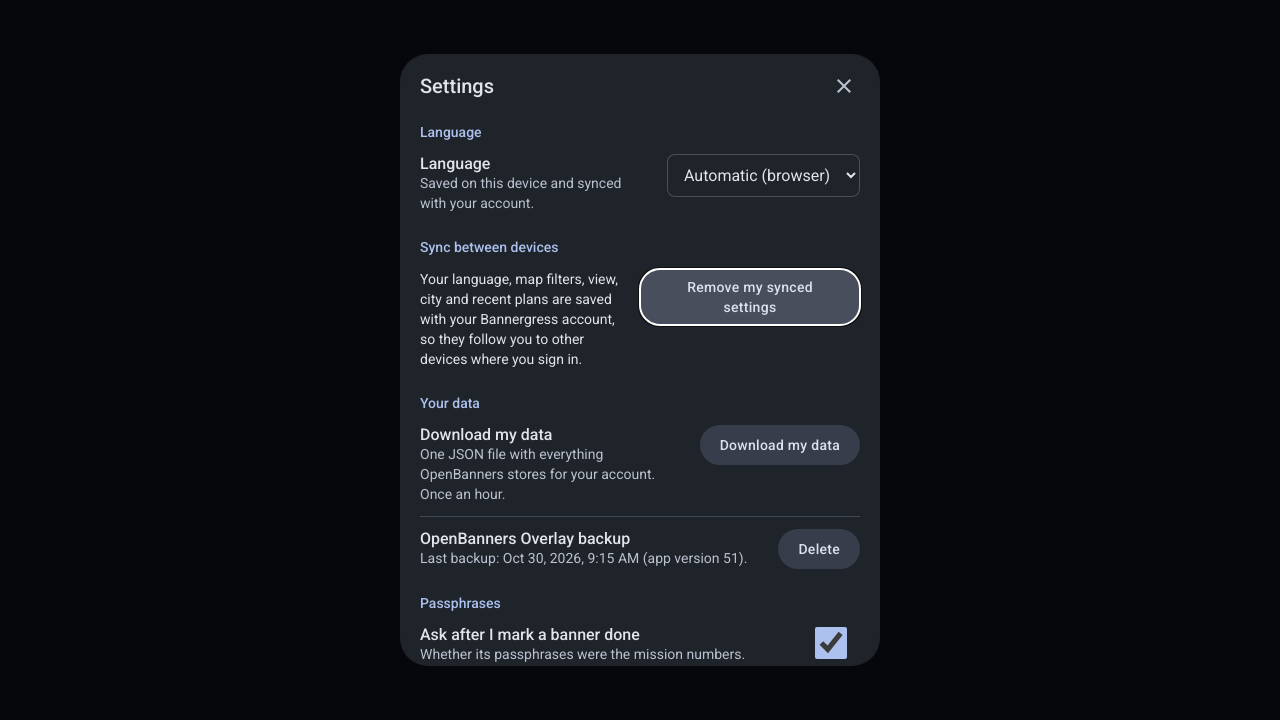
Test: settings › downloads my data, then greys the button out until the next possible time
Click the button "Download my data": coordinates (780, 445) [700,425,860,465]
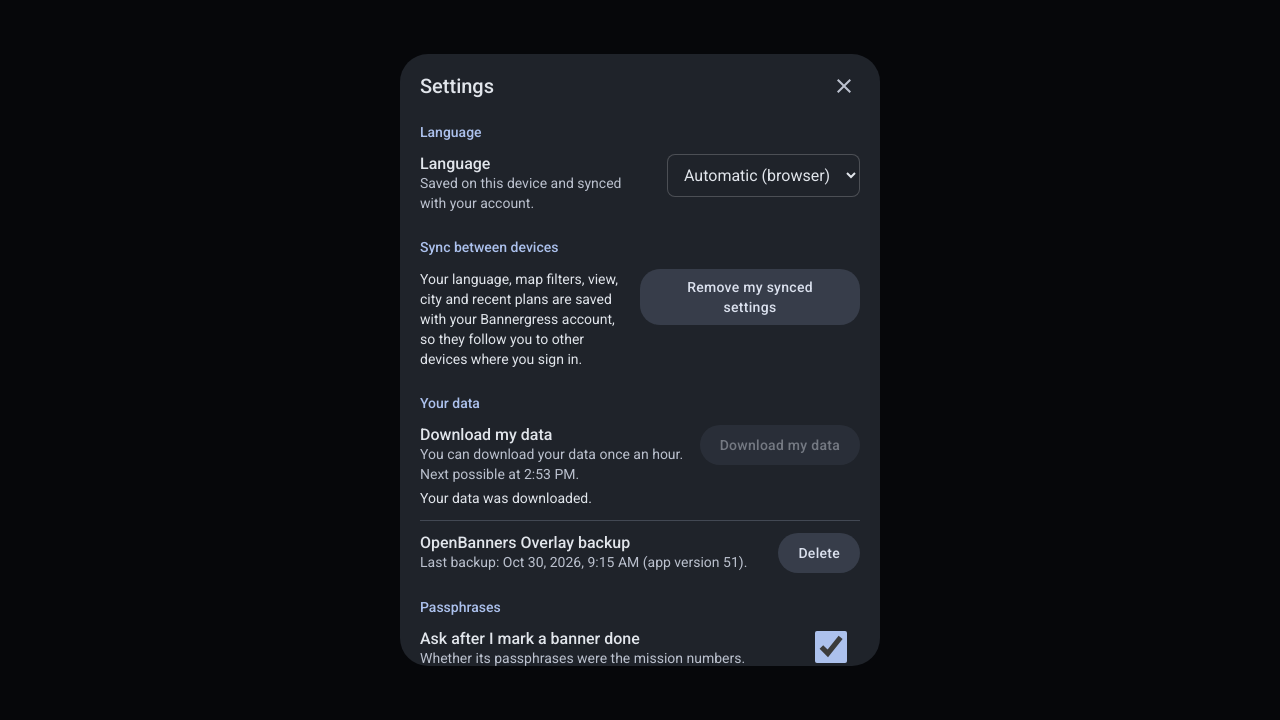
Expected: the text "Your data was downloaded." is shown, [420,490,592,506]
Expected: the text "You can download your data once an hour. Next possible at" is shown, [420,446,683,482]
Expected: the button "Download my data" is disabled, [700,425,860,465]
